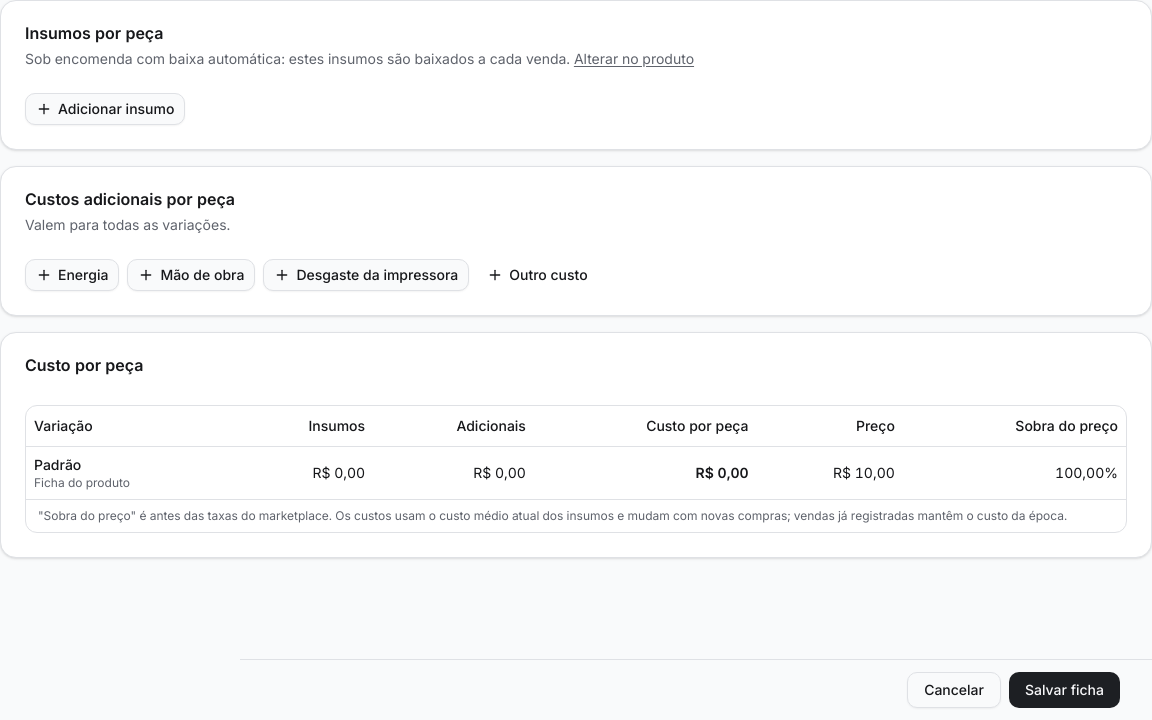
Test: CostSheetEditor › flags incomplete rows instead of saving
The width and height of the screenshot is (1152, 720).
Click the button "Adicionar insumo" at (105,109), box [25,93,185,125]
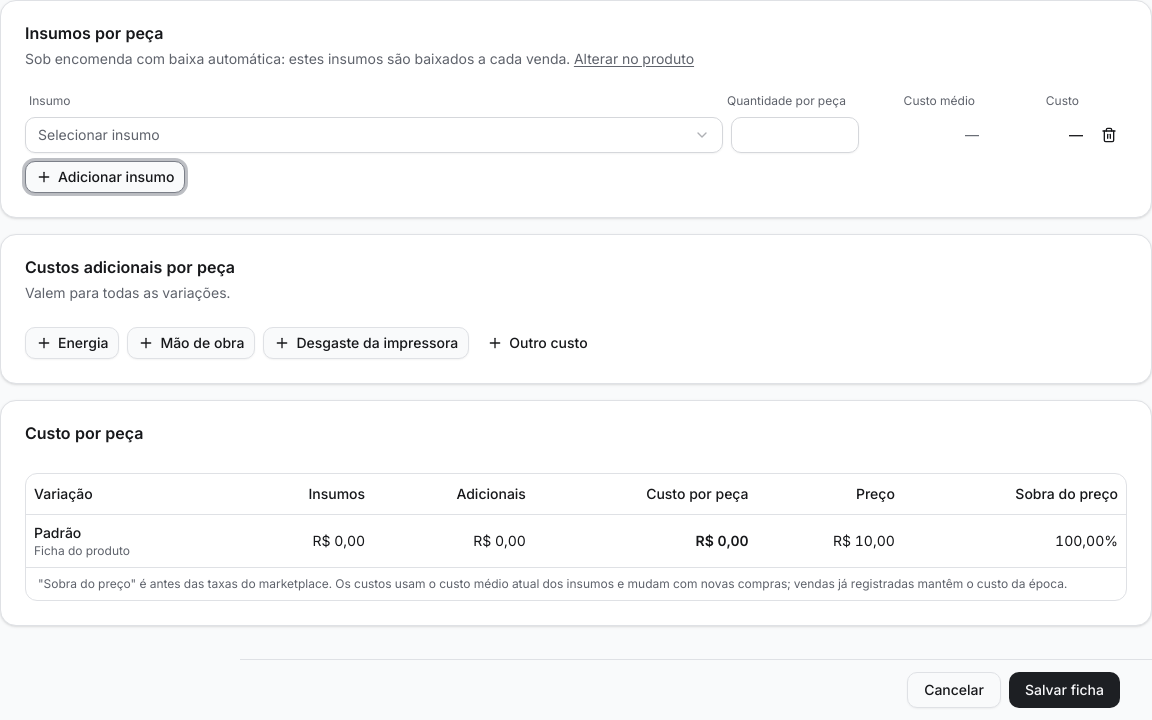
Click the button "Salvar ficha" at (1064,690), box [1009,672,1120,708]
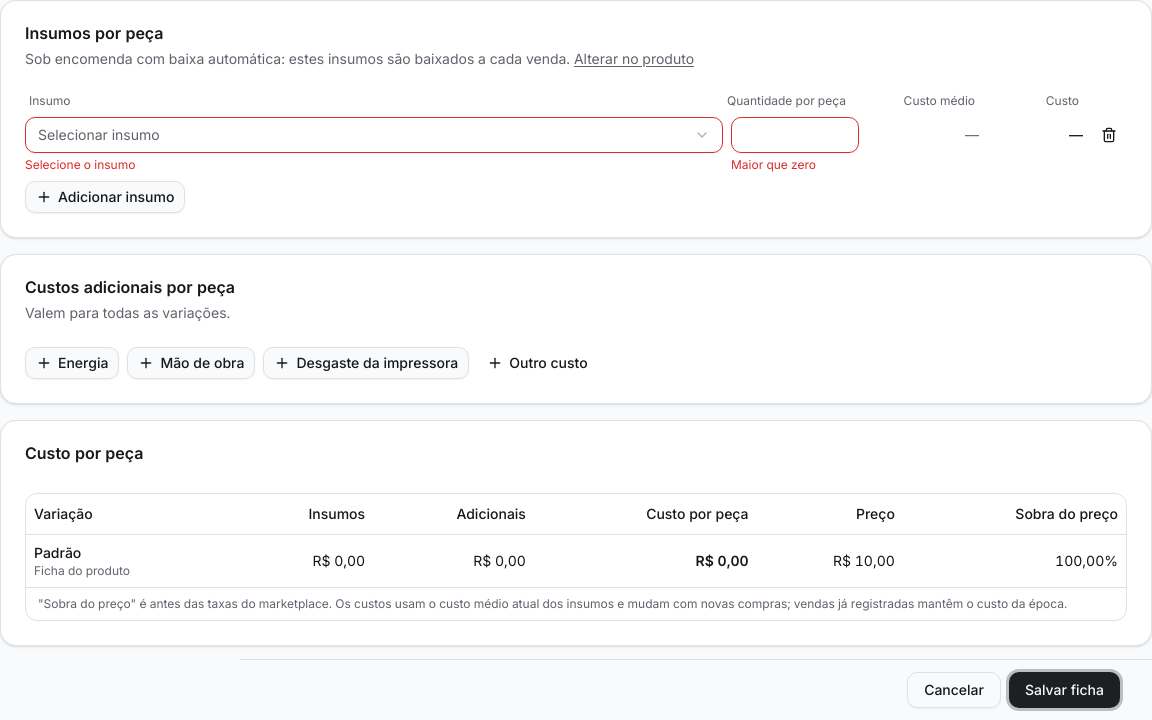
Check: the text "Selecione o insumo" is shown, box [25,157,135,172]
Check: the text "Maior que zero" is shown, box [731,157,816,172]
